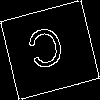C: (25, 25, 69, 80)
